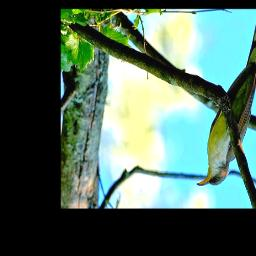Cuckoo: (196, 16, 256, 186)
